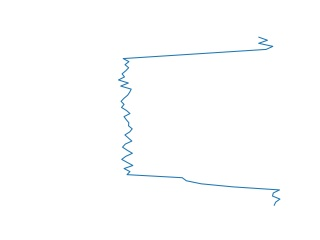distributaryChannelFill: (114, 35, 285, 206)
